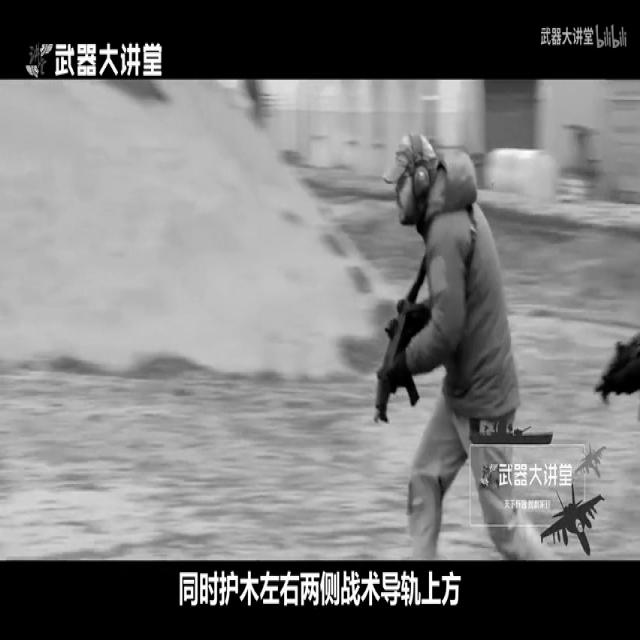Sub-machine-gun: (370, 236, 423, 439)
